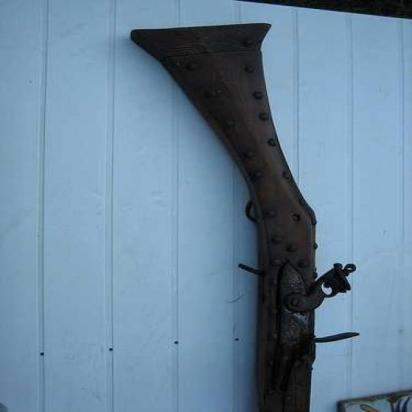Gun: (118, 10, 378, 412)
